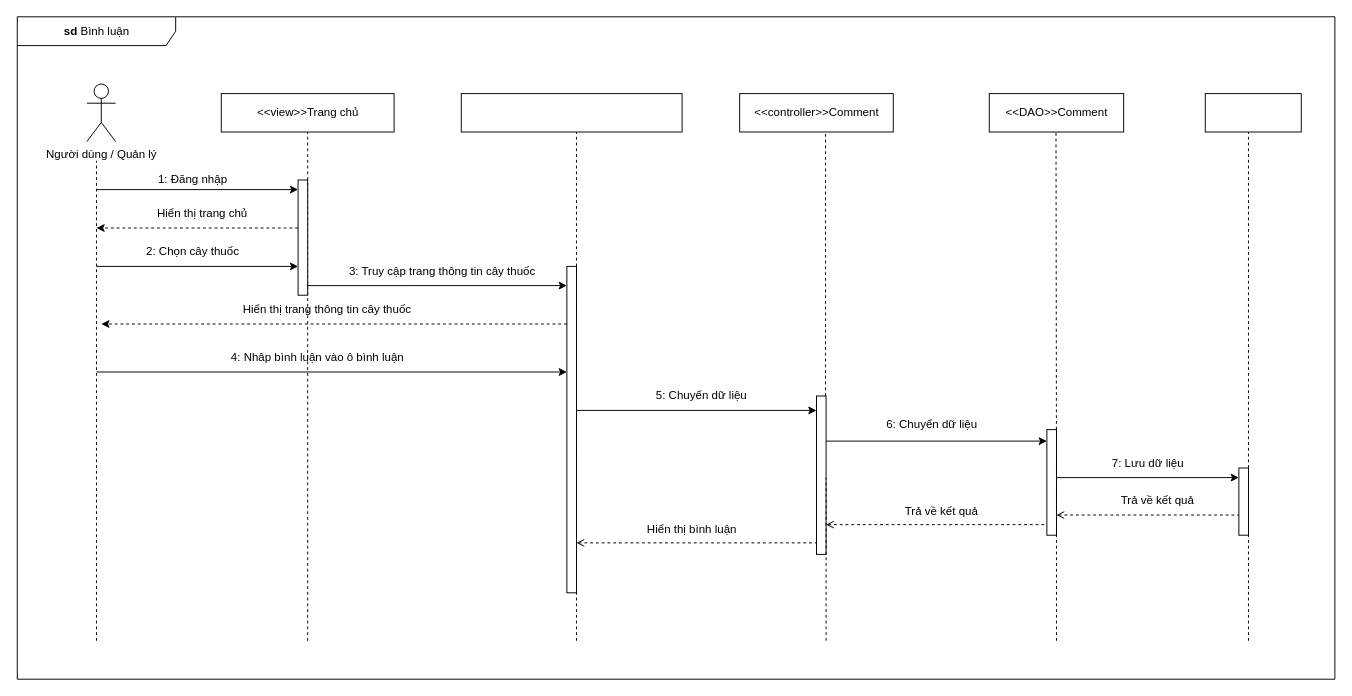
The diagram is 1352 pixels wide and 696 high, and some of its shapes have lost their labels. The centre of each missing label's shape, as x and y in pixels:
<<view>>Trang thông tin cây thuốc: [571,112]
Database: [1252,112]
